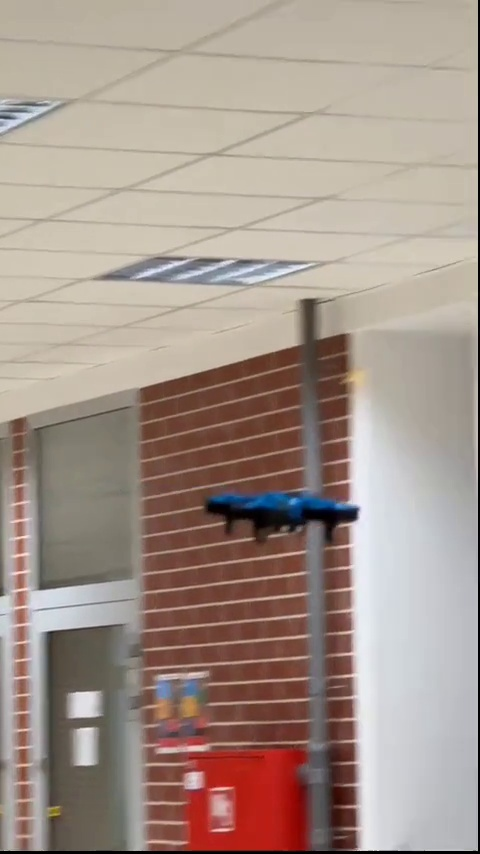drone: (204, 488, 358, 542)
